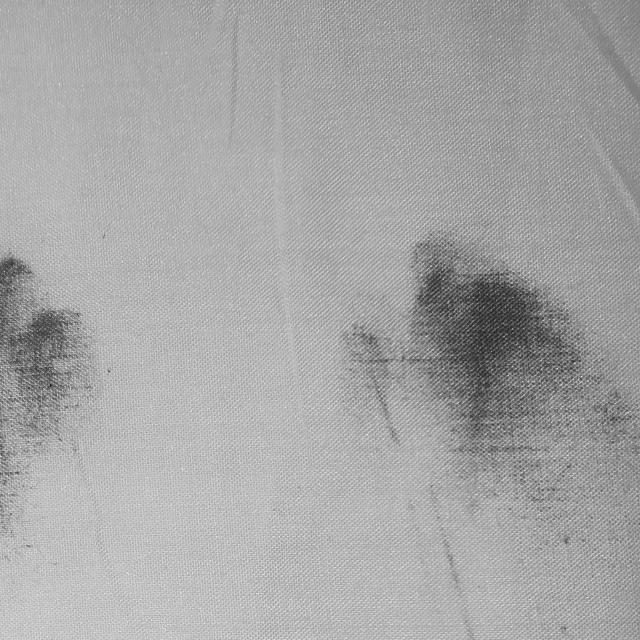Stain: (329, 230, 640, 640), (0, 249, 107, 535)
